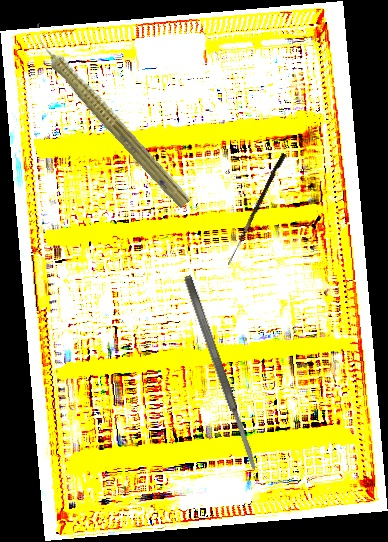Handpiece: (21, 20, 198, 212)
Hook Surgical: (227, 151, 287, 268)
Spatula Surgical: (182, 274, 260, 473)
